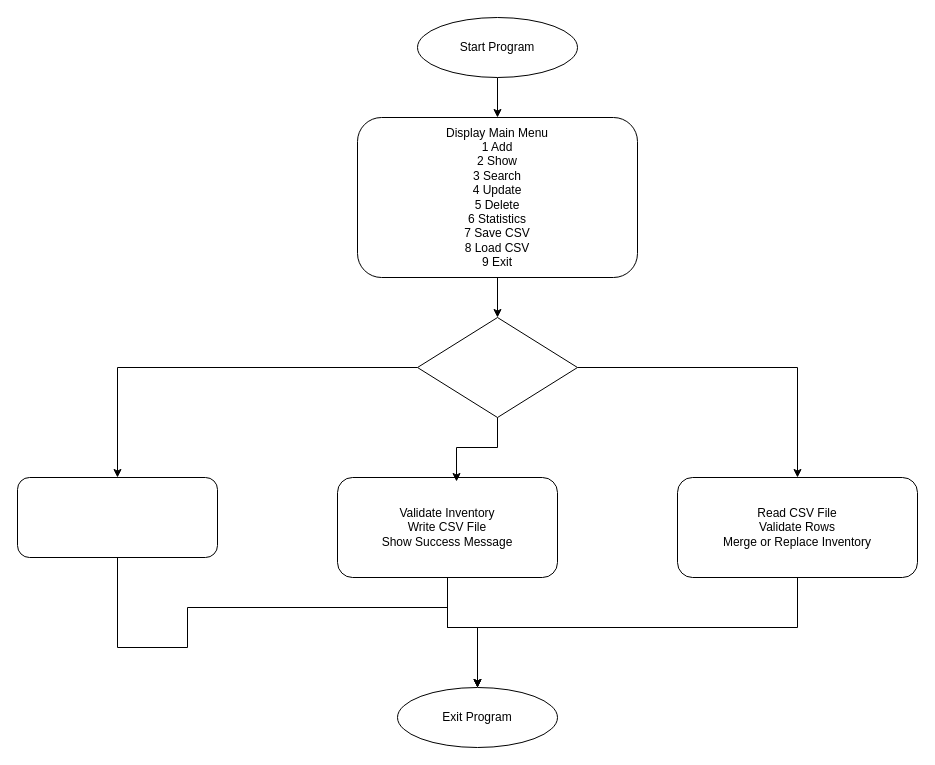
Image size: 935x765. Some labels were removed from this diagram. Each missing label, with the centre of its shape:
Add Product to Inventory: point (117, 517)
Select Option: point (497, 367)
